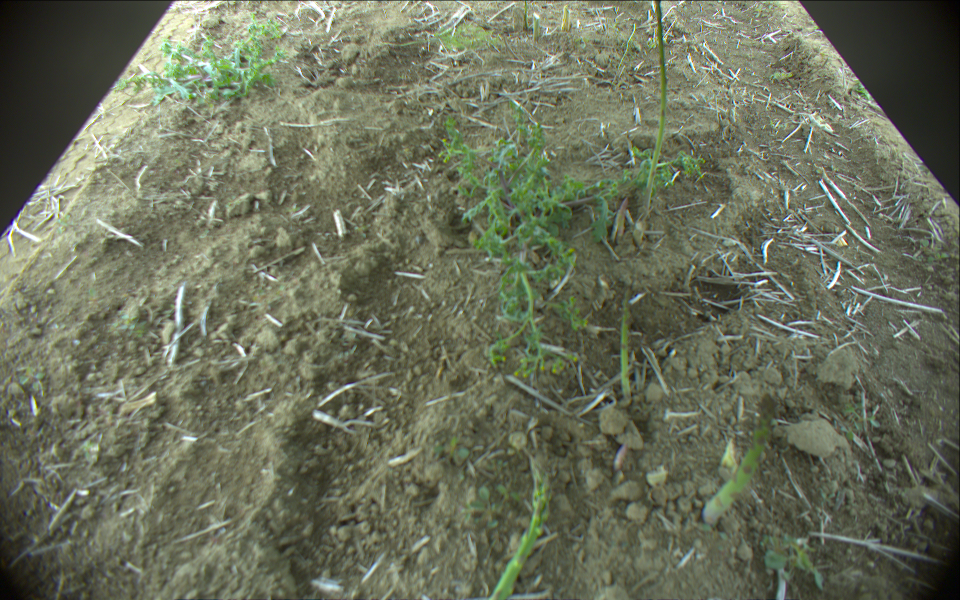aspa: (485, 461, 550, 600), (697, 423, 772, 525), (645, 1, 669, 193), (618, 276, 639, 398), (562, 5, 571, 30), (522, 1, 529, 31), (533, 15, 542, 38)
